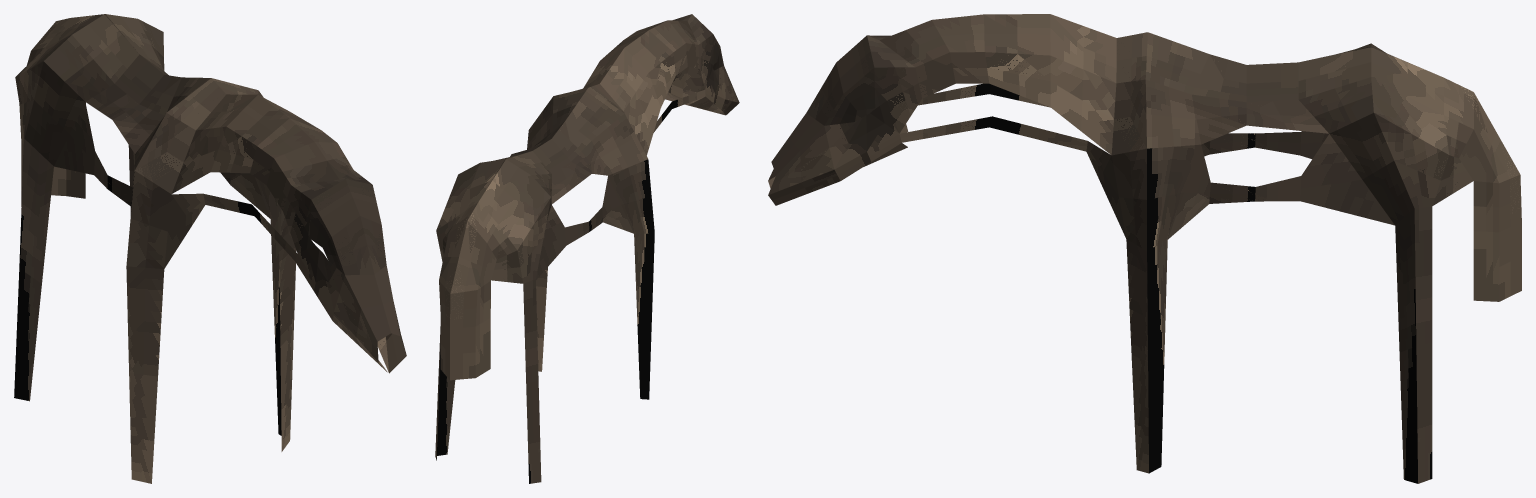
File: Horse_Center_piece.gltf
The picture shows the model from 3 angles, left to right: view 1: azimuth 30°, elevation 25°; view 2: azimuth 150°, elevation 25°; view 3: azimuth 270°, elevation 25°; orthographic projection. The views are drawn at different scales.
Visible parts, largest first — view 1: Horse; view 2: Horse; view 3: Horse.
Part boxes in pixels (box(x1,y1,x2,y2)): Horse: box(14, 14, 406, 483); Horse: box(435, 14, 739, 483); Horse: box(768, 14, 1521, 483).
Size of the model in its own units: 6.74 by 15.66 by 24.56.
Materials: 1 (1 with a texture image).
